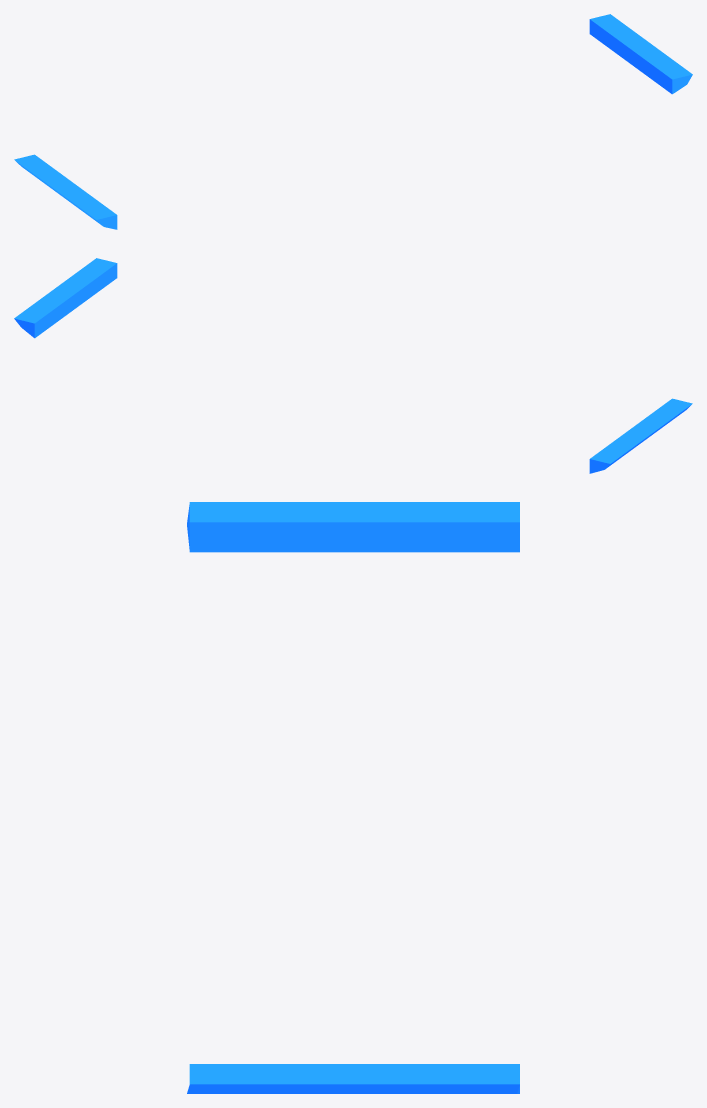
File: vpstage_ledge.fbx
3 views of the same model, one above another, from view 1: azimuth 30°, elevation 25°; view 2: azimuth 150°, elevation 25°; view 3: azimuth 270°, elevation 25° (orthographic). The views are drawn at different scales.
Visible parts, largest first — view 1: Ledges; view 2: Ledges; view 3: Ledges.
Boxes of the visible parts, <box> form: Ledges: <box>14,14,692,229</box>; Ledges: <box>14,258,692,473</box>; Ledges: <box>187,502,519,1093</box>.
Bounding box in the file's own units: 11612 × 278 × 2810.
